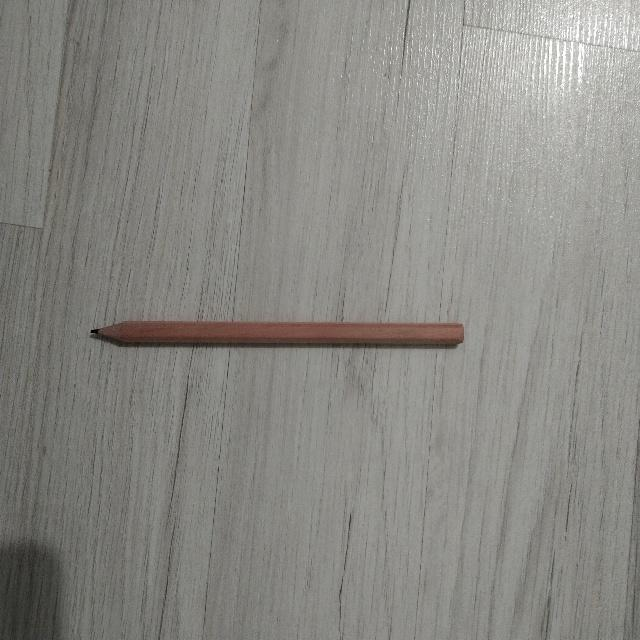pencil: (92, 321, 463, 344)
